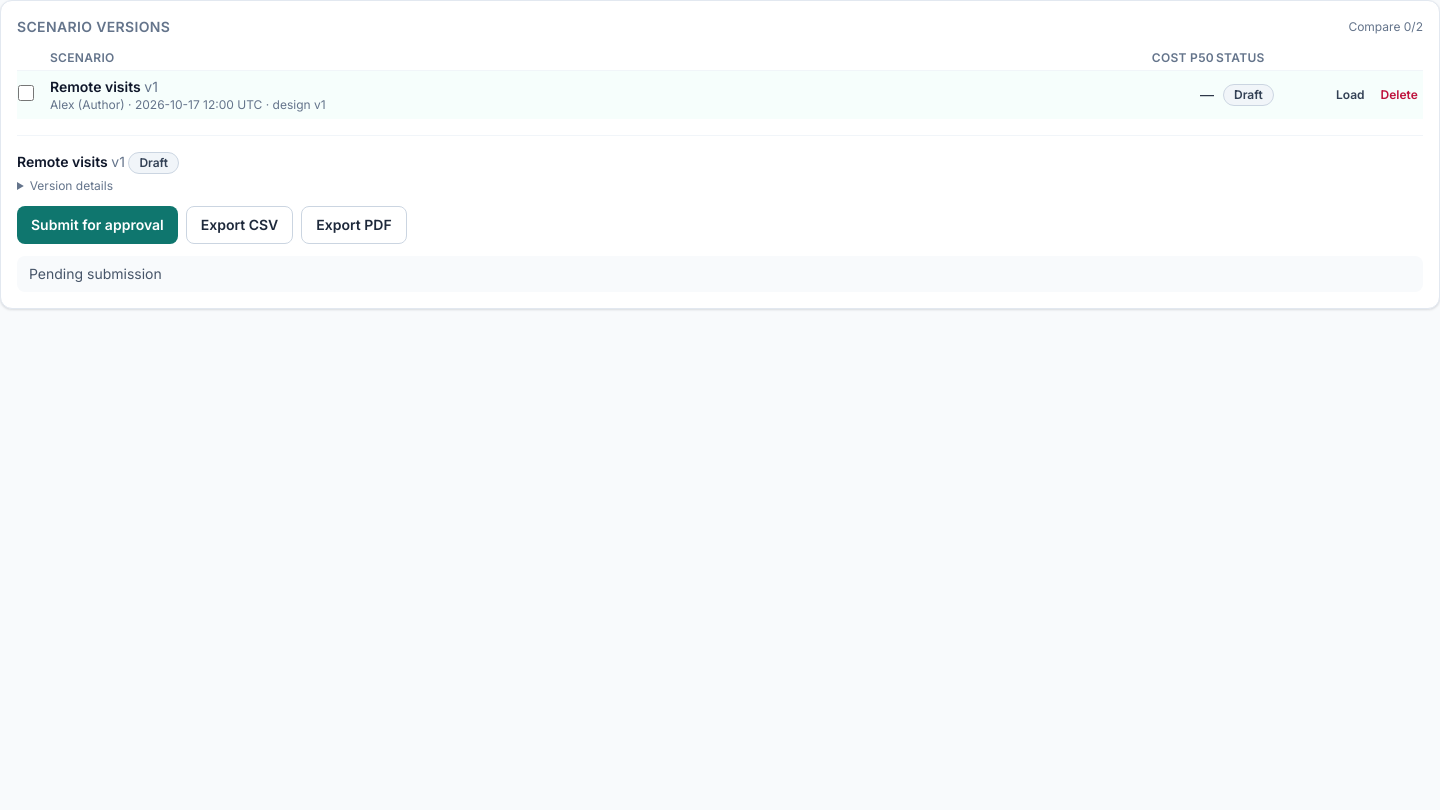
Test: saved scenario deletion › requires confirmation and leaves the version untouched when cancelled
Expected: the element with test id "selected-scenario" is shown, [17,135,1423,292]
Click the button with aria-label "Delete Remote visits v1" at {"x": 1399, "y": 95}, box [1373,83,1426,107]
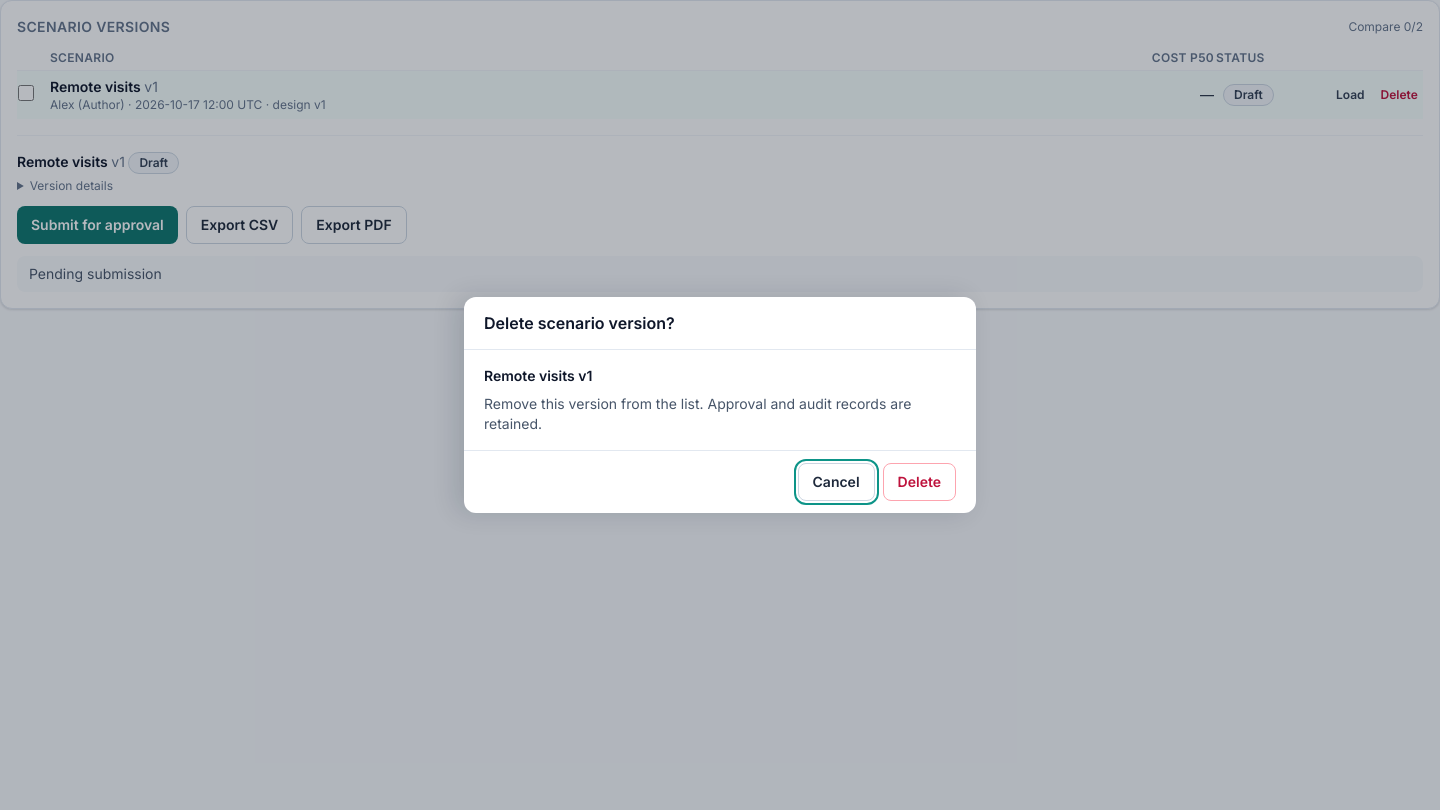
Expected: the dialog "Delete scenario version?" shows "approval", [484,395,911,432]
Expected: the dialog "Delete scenario version?" shows "audit", [484,395,911,432]
Click the button "Cancel" at {"x": 836, "y": 482}, box [798,463,874,501]
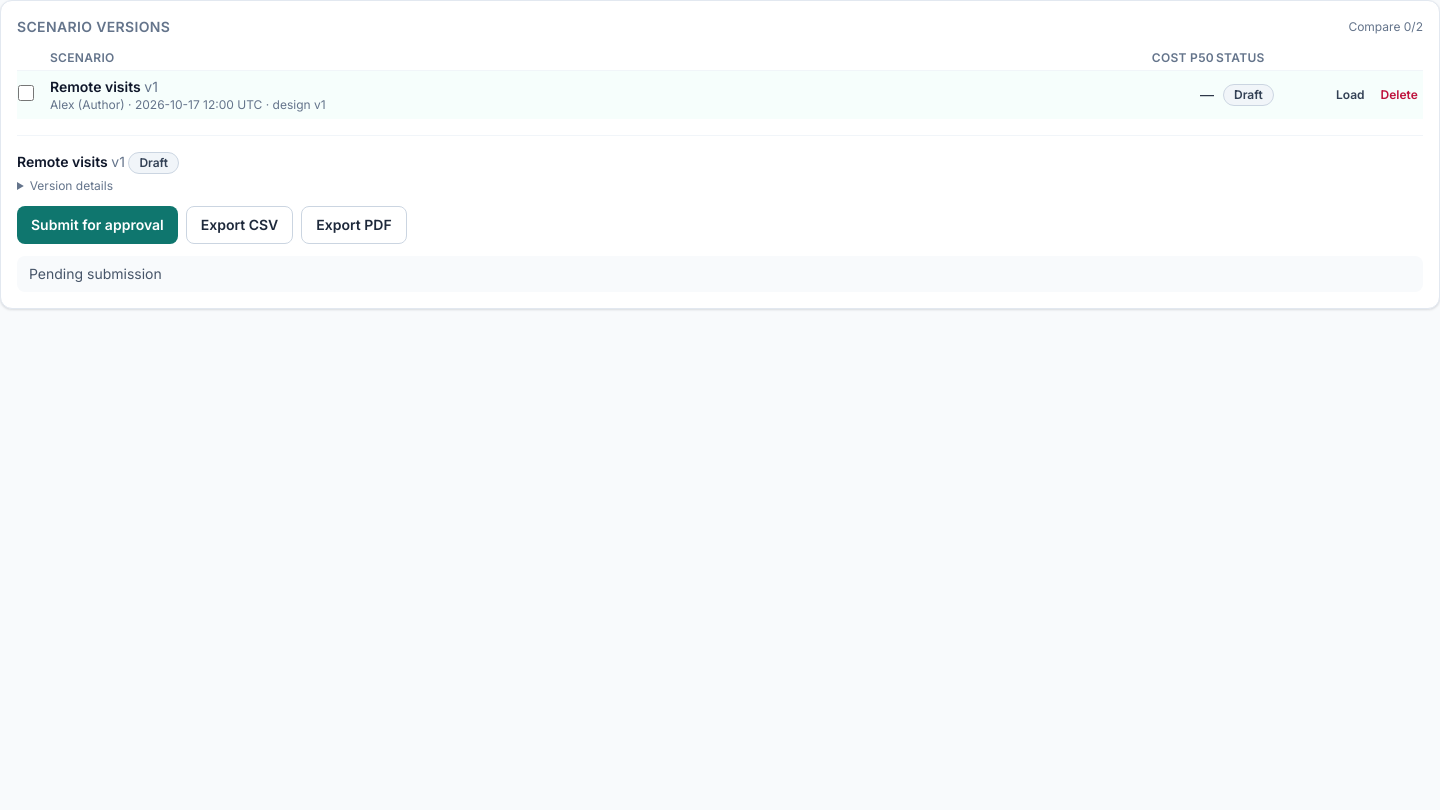
Expected: the button "Remote visits v1" is shown, [50,77,158,97]
Expected: the dialog is gone
